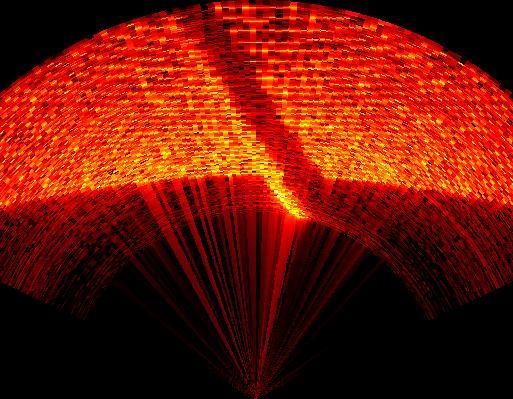pipe: (168, 4, 328, 214)
